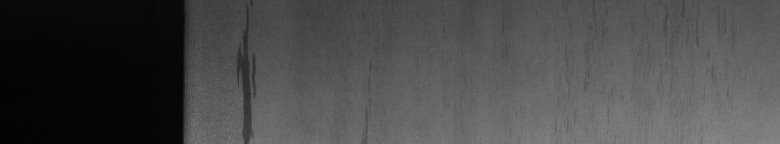hd: (231, 4, 260, 136)
